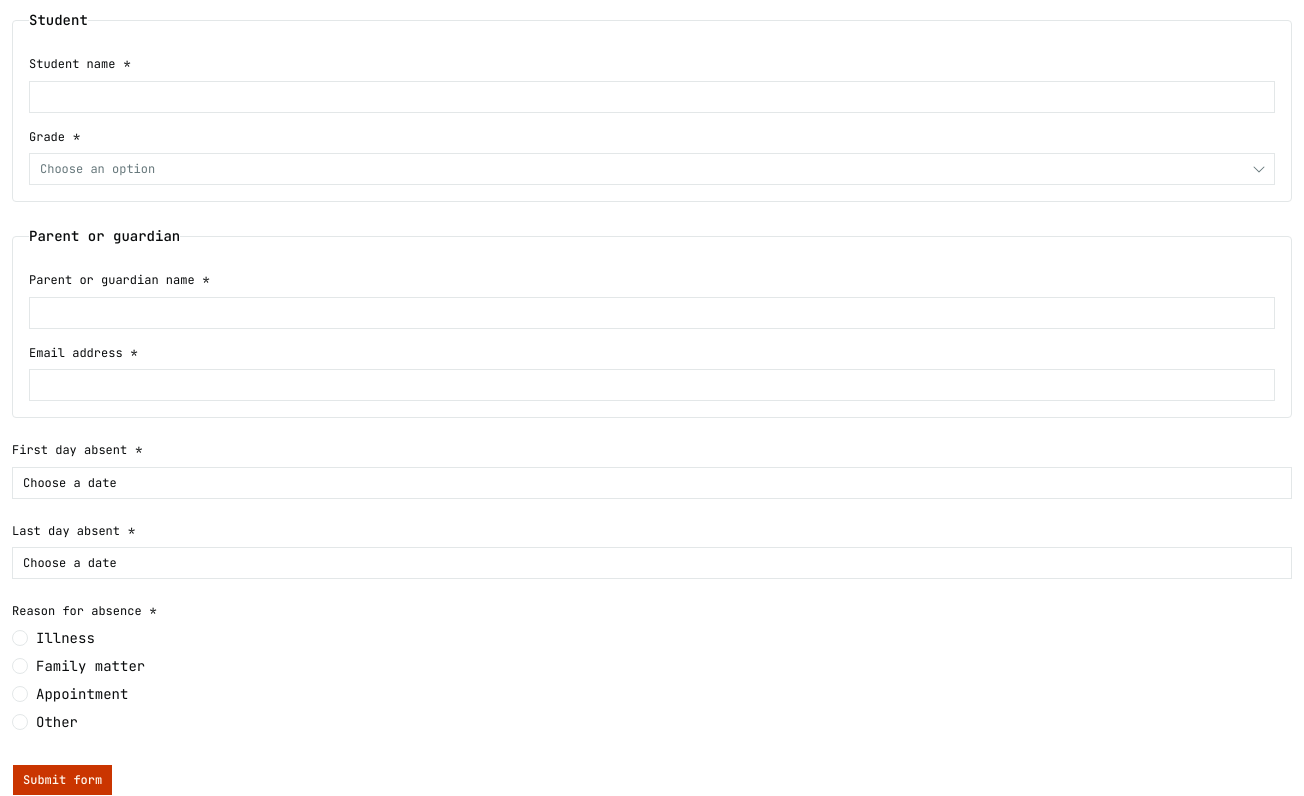
Test: #DynamicForm › shows conditional fields, keeps their answers when hidden, and hides them again
(page scrolled)
Check: the field labelled "Please describe" is not shown
Click the radio button named "Other" next to "Other".
click(20, 722)  # box x1=12 y1=714 x2=28 y2=730
(page scrolled)
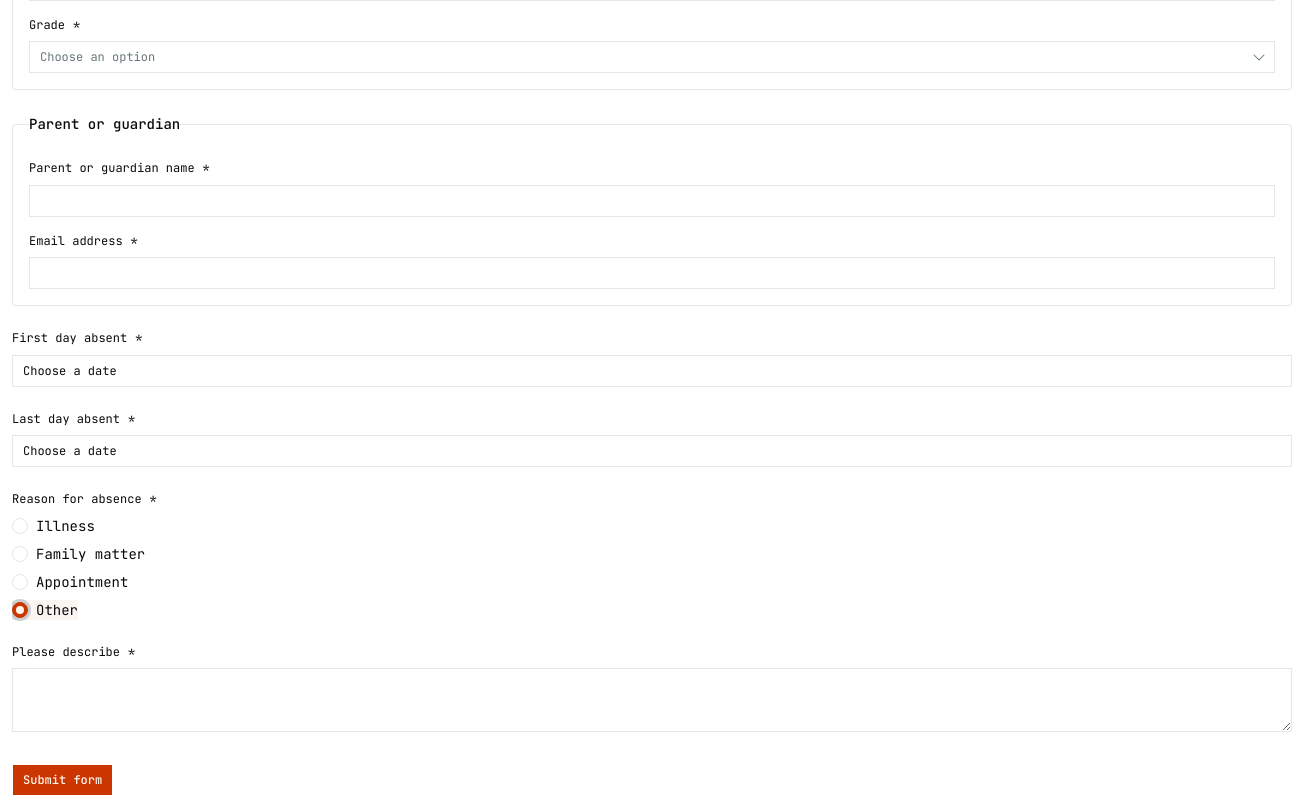
Type "Family travel" into the text box labelled "Please describe *".
click(652, 700); type("Family travel")  # box x1=12 y1=668 x2=1292 y2=732
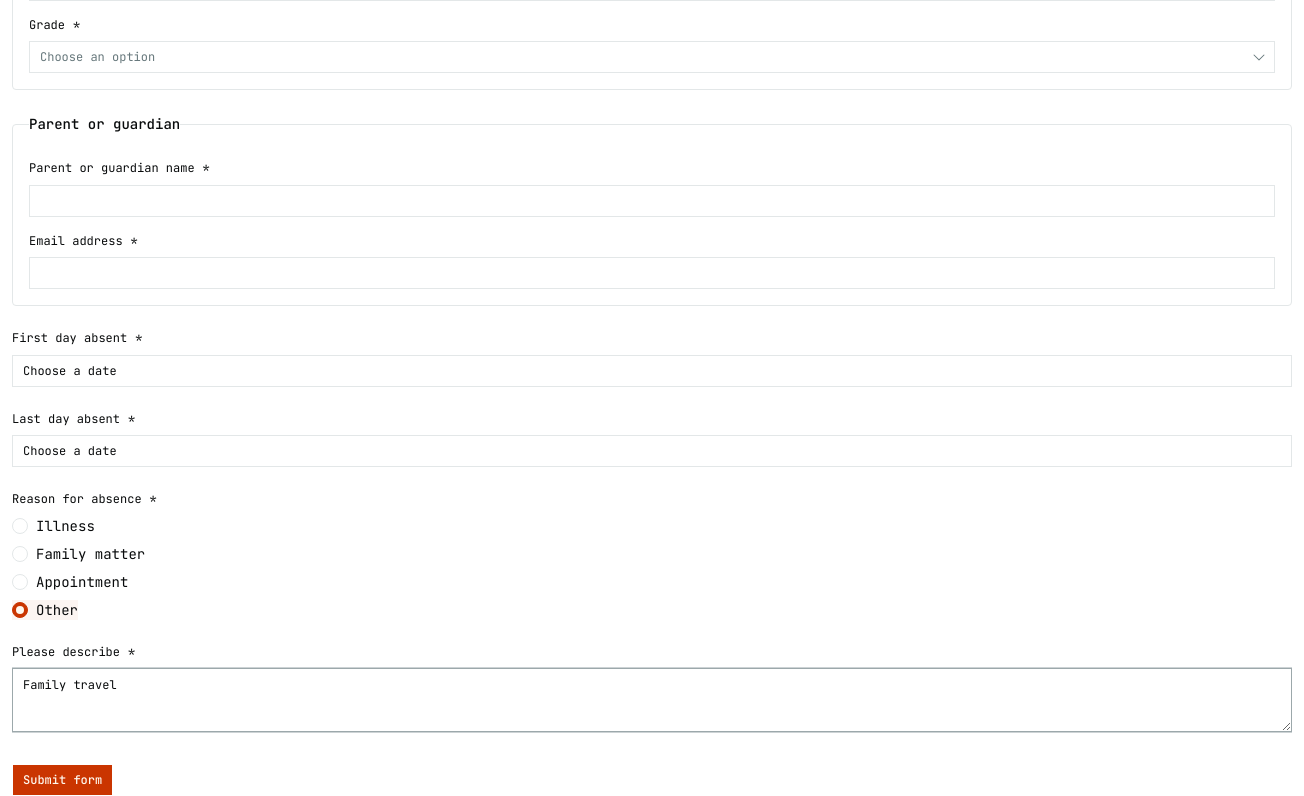
Click the radio button named "Illness" next to "Illness".
click(20, 526)  # box x1=12 y1=518 x2=28 y2=534
(page scrolled)
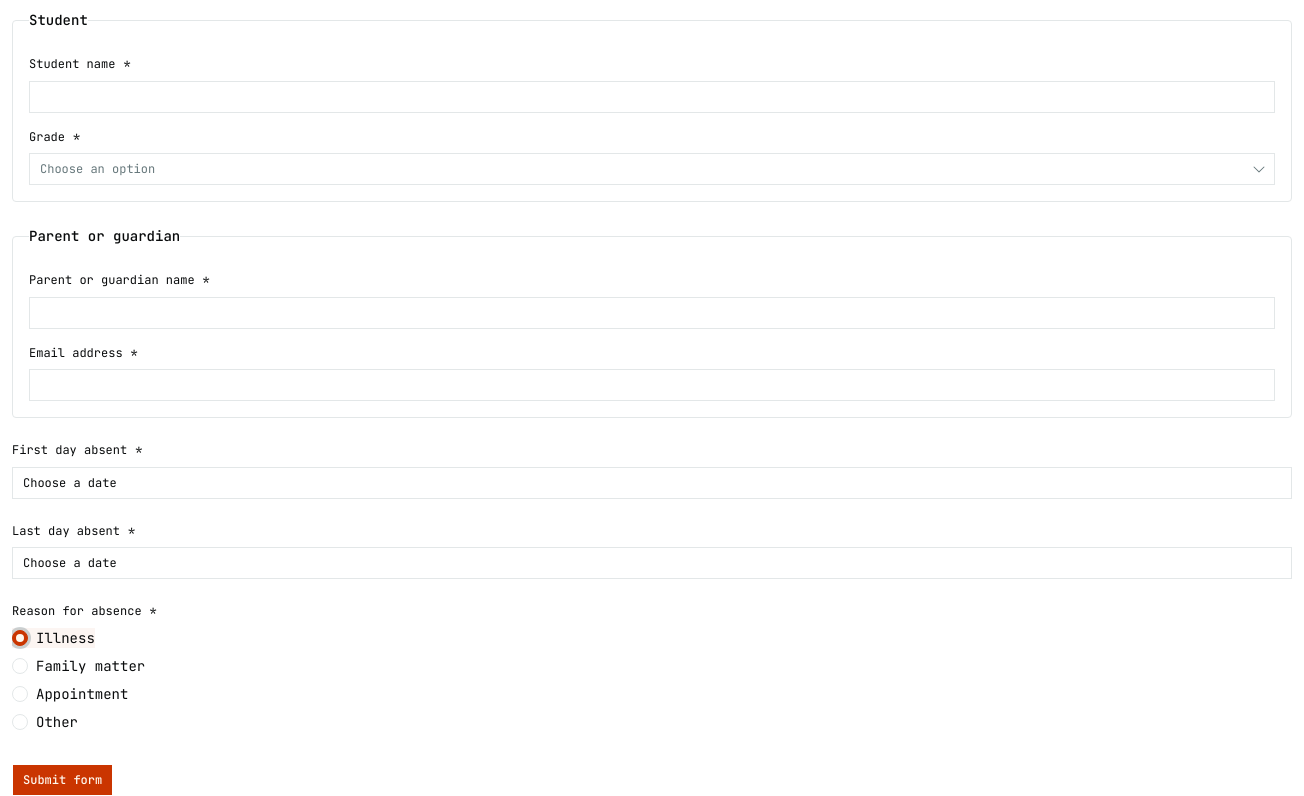
Check: the label "Please describe" is gone
Click the radio button named "Other" next to "Other".
click(20, 722)  # box x1=12 y1=714 x2=28 y2=730
(page scrolled)
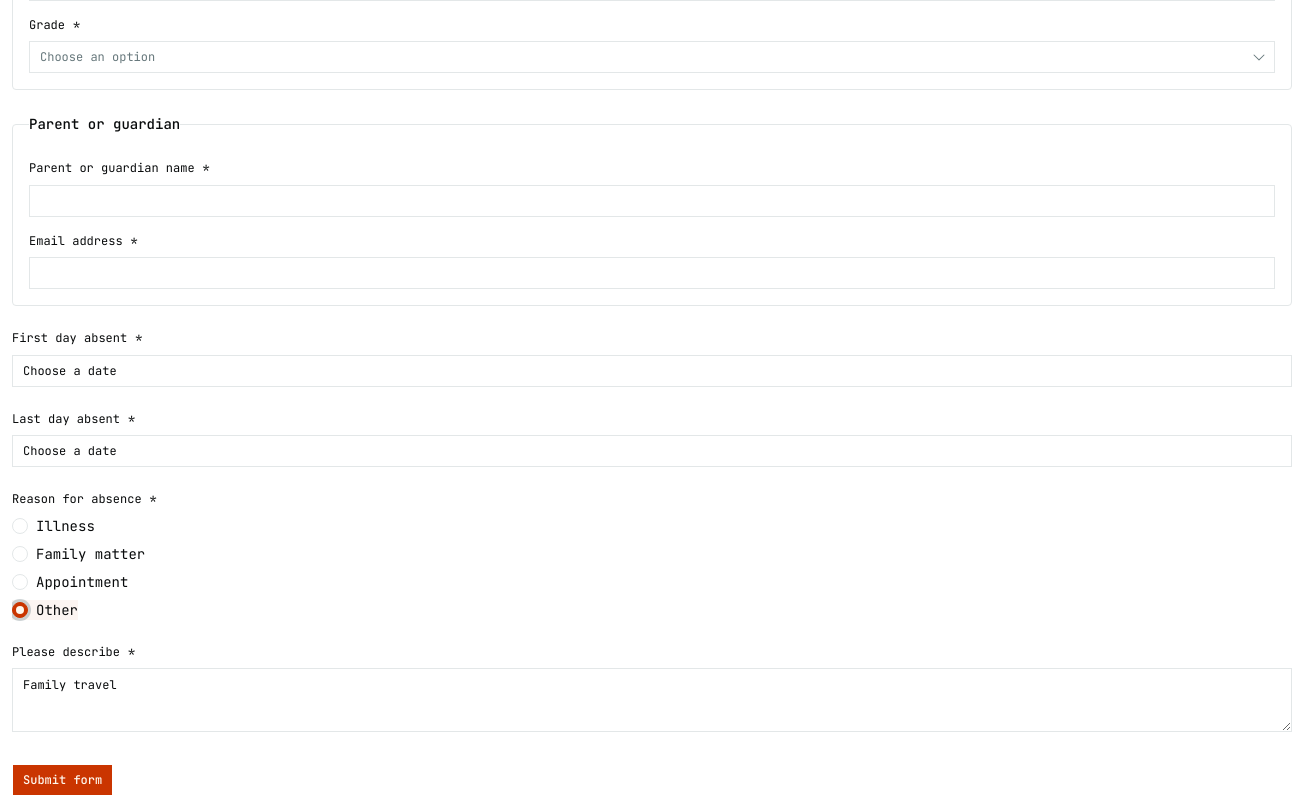
Check: the text box labelled "Please describe *" holds "Family travel", box x1=12 y1=668 x2=1292 y2=732
